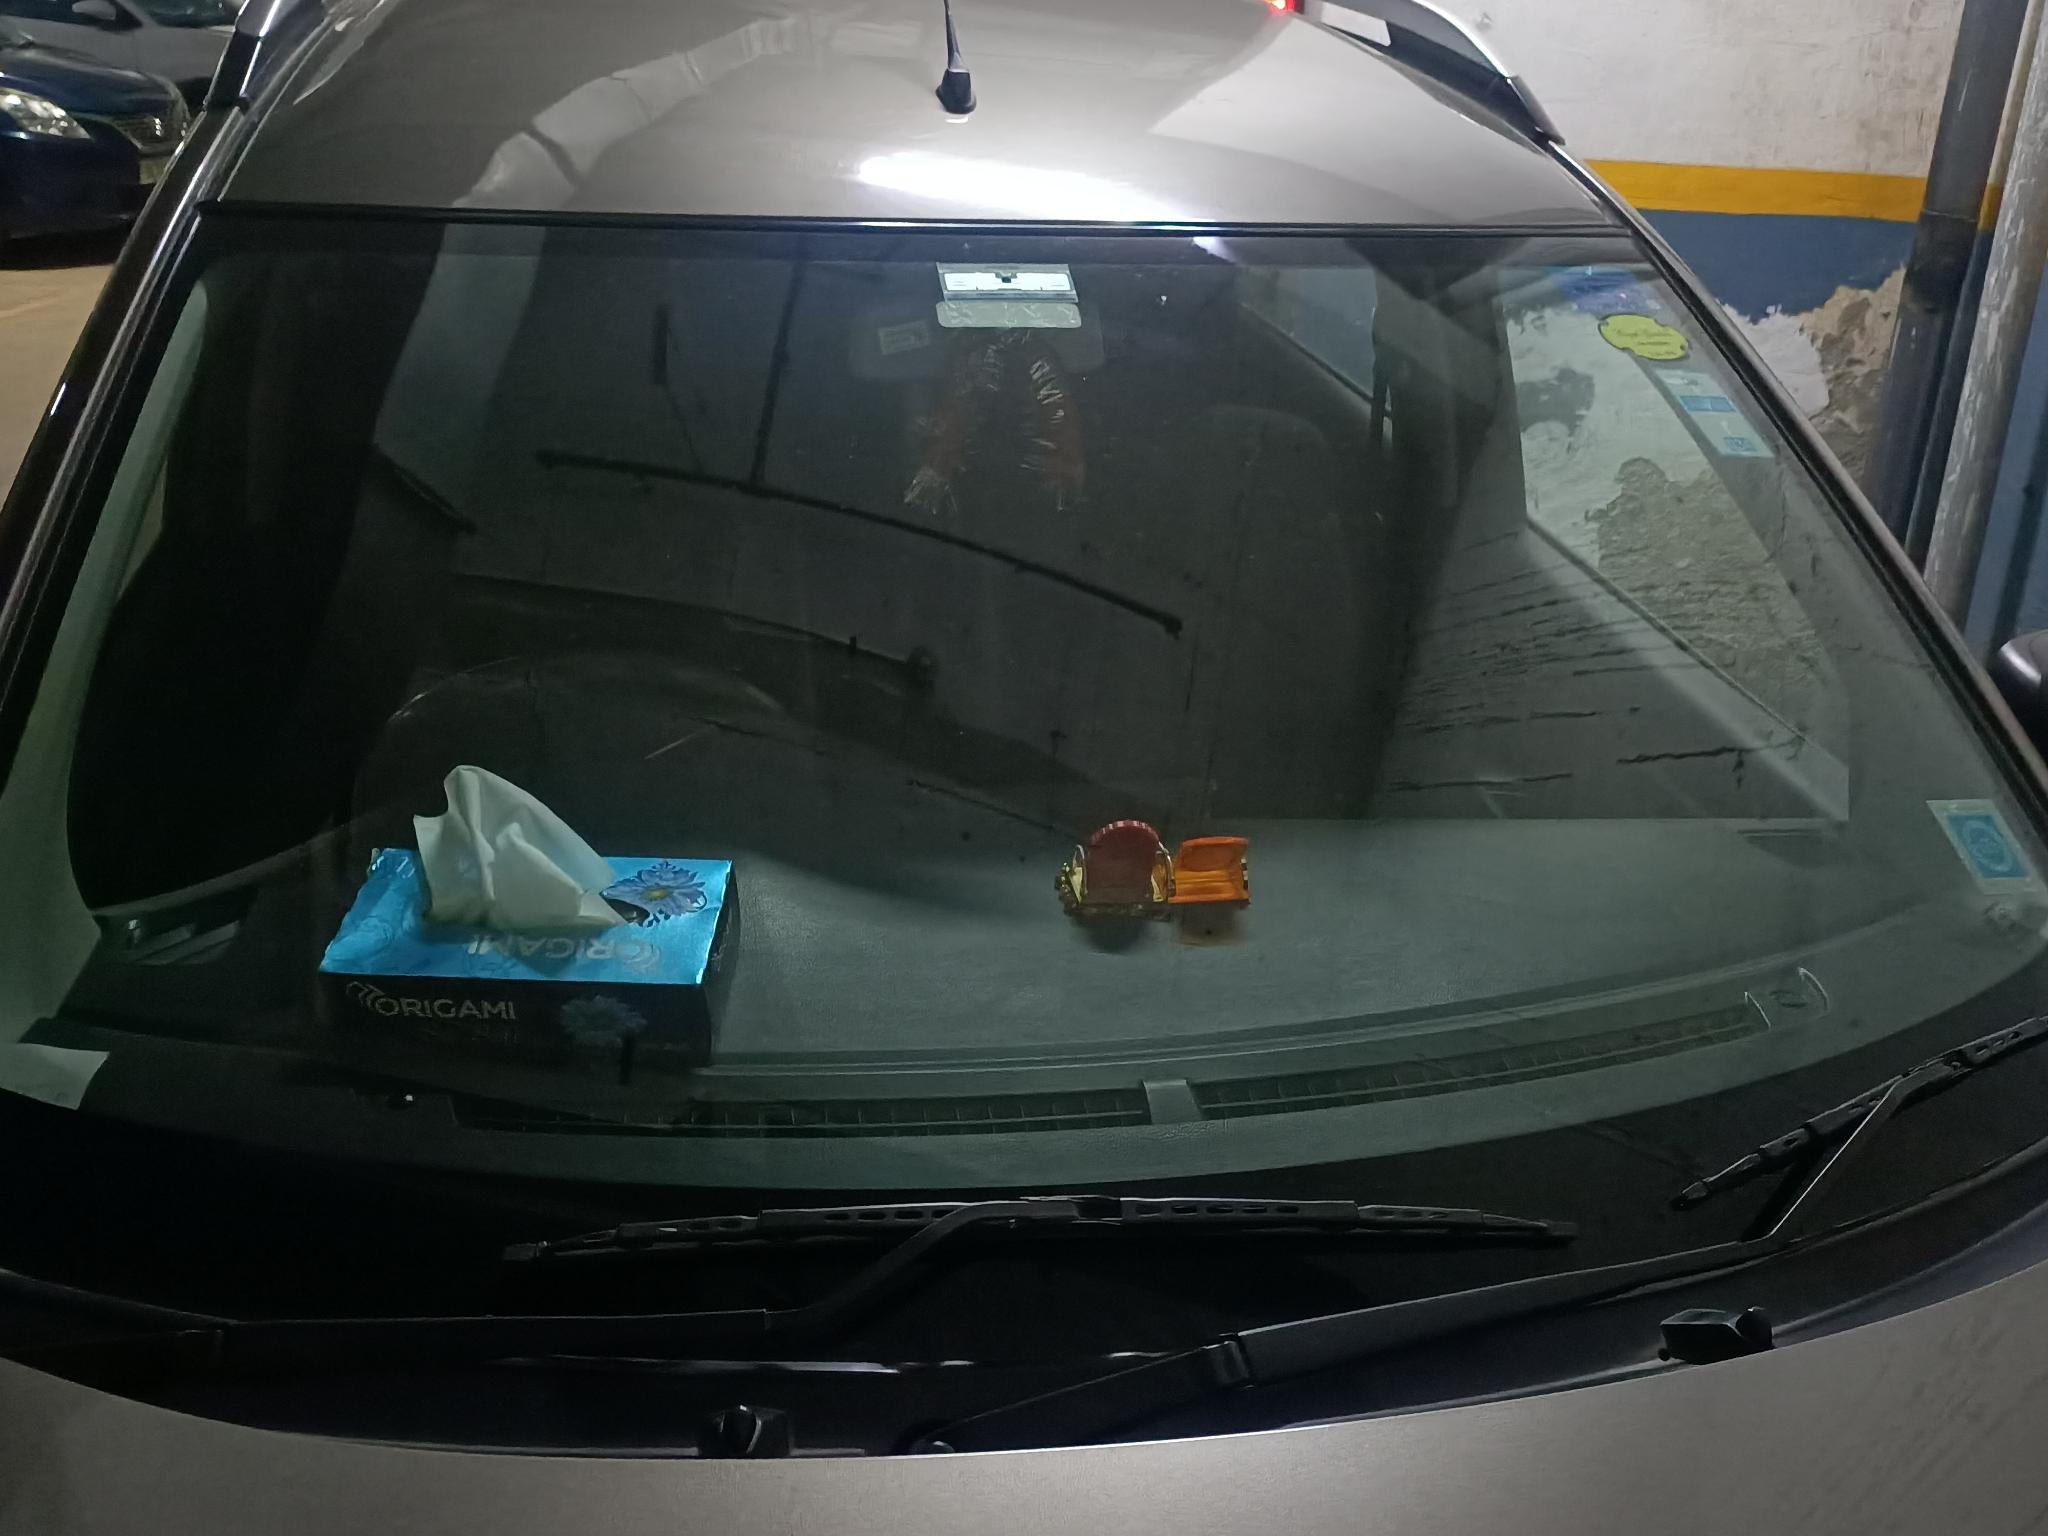FastTag: (906, 245, 1138, 323)
not a FastTag: (1650, 368, 1796, 489), (1929, 787, 2037, 915), (1545, 263, 1669, 316), (1605, 321, 1708, 363)
